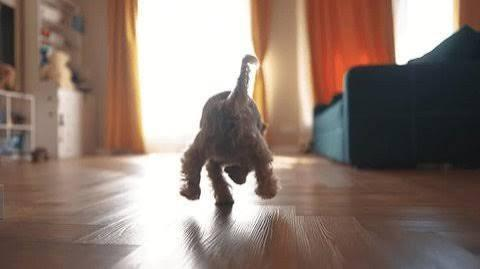puppy-dog: (179, 52, 280, 208)
